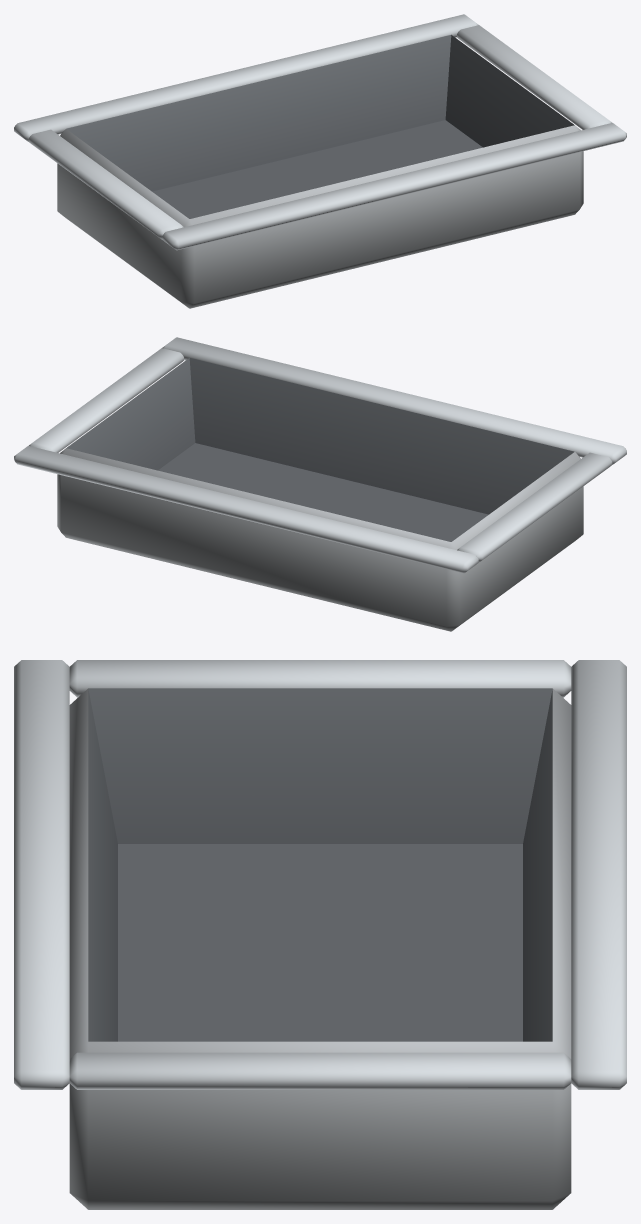
Rendered from SM_HotelPan_Full_01.glb.
The picture shows the model from 3 angles, top to bottom: view 1: azimuth 30°, elevation 25°; view 2: azimuth 150°, elevation 25°; view 3: azimuth 270°, elevation 25°; orthographic projection. The views are drawn at different scales.
Parts seen in each view (by area): view 1: SM_HotelPan_Full_01; view 2: SM_HotelPan_Full_01; view 3: SM_HotelPan_Full_01.
Boxes of the visible parts, <box> form: SM_HotelPan_Full_01: <box>14,14,626,308</box>; SM_HotelPan_Full_01: <box>14,337,626,631</box>; SM_HotelPan_Full_01: <box>14,660,626,1209</box>.
Size of the model in its own units: 0.53 by 0.1 by 0.33.
1 material, 1 textured.
